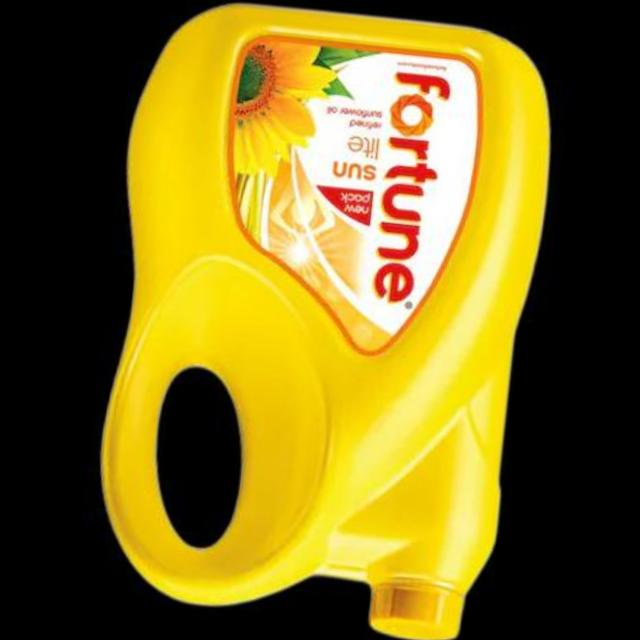Fortune Sunlite Refined Sunflower Oil 5 L: (77, 0, 566, 640)
